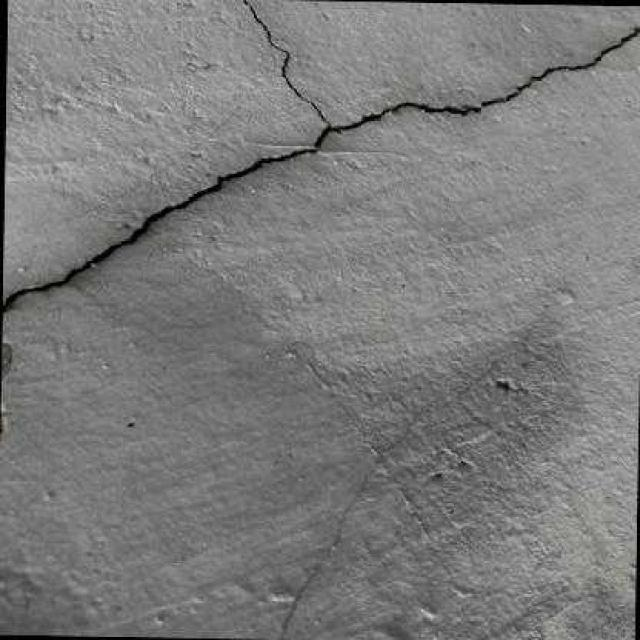D00: (0, 0, 640, 312)
